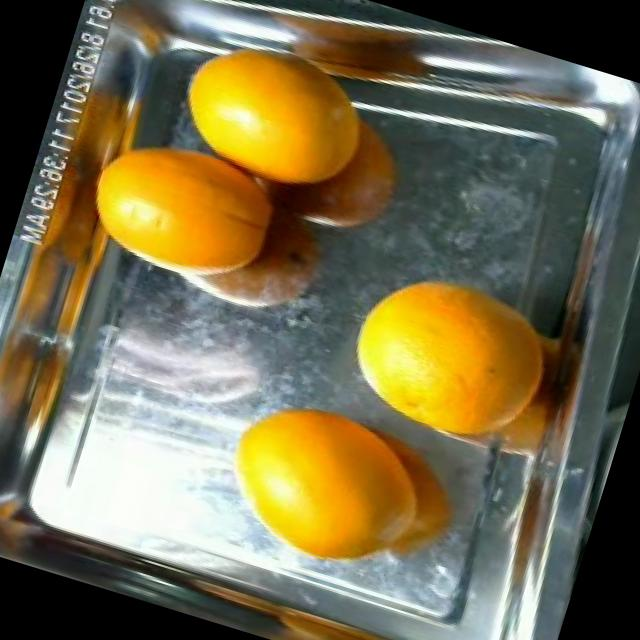Fruit: (188, 369, 430, 595), (322, 239, 550, 453)
